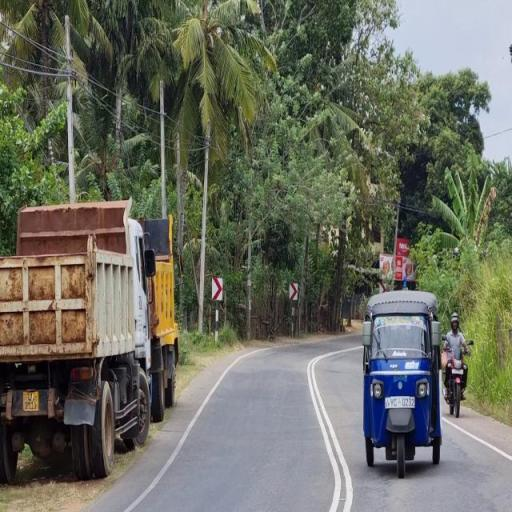double_white_line: (308, 347, 358, 511)
